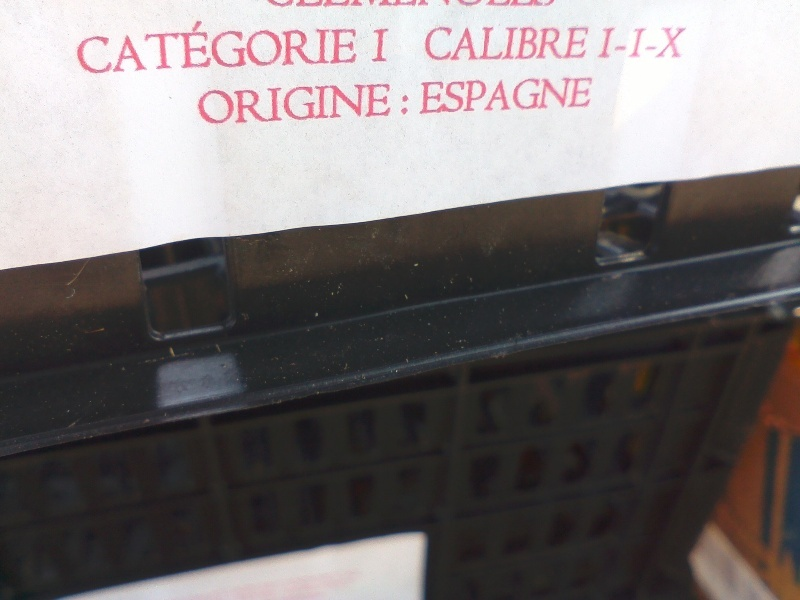text: (81, 19, 96, 77), (97, 19, 112, 77), (113, 19, 128, 77), (129, 19, 144, 77), (145, 19, 160, 77), (161, 19, 176, 77), (177, 19, 192, 77), (193, 19, 208, 77), (209, 19, 224, 77), (225, 19, 240, 77), (241, 19, 256, 77), (257, 19, 272, 77), (273, 19, 288, 77), (289, 19, 304, 77), (305, 19, 320, 77), (321, 19, 336, 77), (337, 19, 352, 77), (209, 81, 224, 128), (225, 81, 240, 128), (241, 81, 256, 128), (257, 81, 272, 128), (273, 81, 288, 128), (289, 81, 304, 128), (305, 81, 320, 128), (321, 81, 336, 128), (337, 81, 352, 128), (353, 81, 368, 128), (369, 81, 384, 128), (433, 75, 448, 116), (449, 75, 464, 116), (465, 75, 480, 116), (481, 75, 496, 116), (497, 75, 512, 116), (513, 75, 528, 116), (529, 75, 544, 116), (545, 75, 560, 116), (561, 75, 576, 116), (577, 75, 592, 116), (433, 24, 448, 61), (449, 24, 464, 61), (465, 24, 480, 61), (481, 24, 496, 61), (497, 24, 512, 61), (513, 24, 528, 61), (529, 24, 544, 61), (545, 24, 560, 61), (561, 24, 576, 61), (197, 81, 208, 128), (609, 26, 624, 60), (625, 26, 640, 60), (641, 26, 656, 60), (657, 26, 672, 60), (673, 26, 688, 60), (420, 75, 432, 116), (577, 24, 590, 61), (353, 19, 361, 77), (401, 90, 416, 120), (374, 26, 384, 65), (385, 81, 392, 128), (385, 26, 393, 65), (601, 26, 608, 60), (426, 24, 432, 61), (77, 19, 80, 77), (593, 75, 594, 116)
